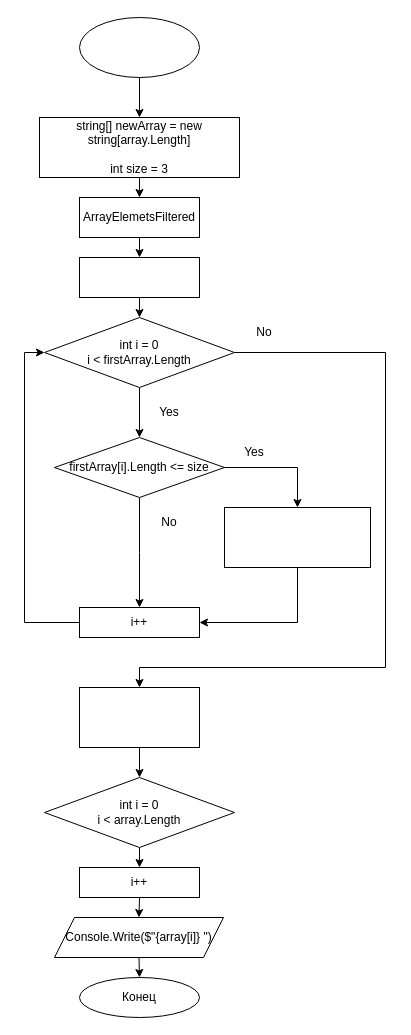
The diagram is 411 pixels wide and 1035 high, and some of its shapes have lost their labels. The box of each missing label's shape, as (x1, y1, x2, y2) in pixels:
int count = 0: (78, 256, 200, 298)
PrintArray: (78, 686, 200, 748)
secondArray[count] = firstArray[i] count++: (224, 506, 370, 568)
Начало: (78, 16, 200, 78)
